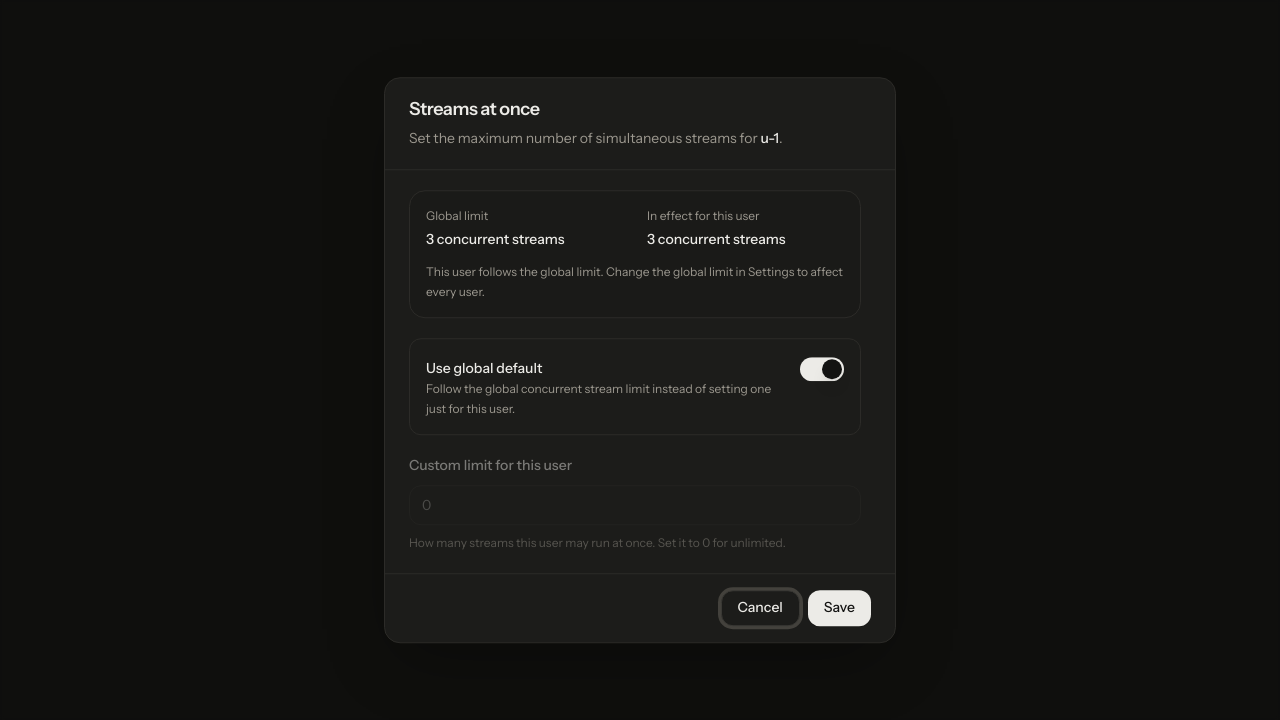
Scenario: ConcurrentStreamModal › validating the custom limit › blocks  with an inline message
Expected: the text "Use global default" is shown, [426, 360, 542, 378]
Step 1. Click the switch → click(822, 370), box [800, 358, 844, 382]
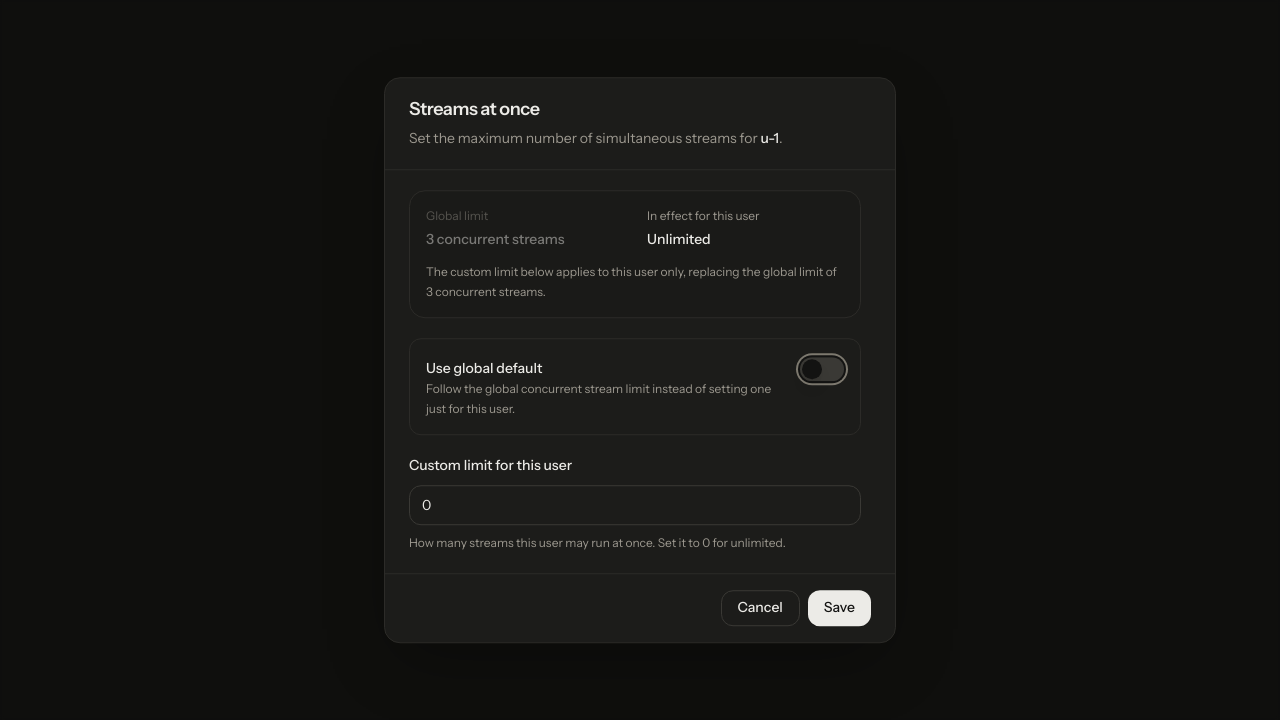
Step 2. Clear the number field labelled "Custom limit for this user" → (635, 505), box [409, 485, 861, 525]
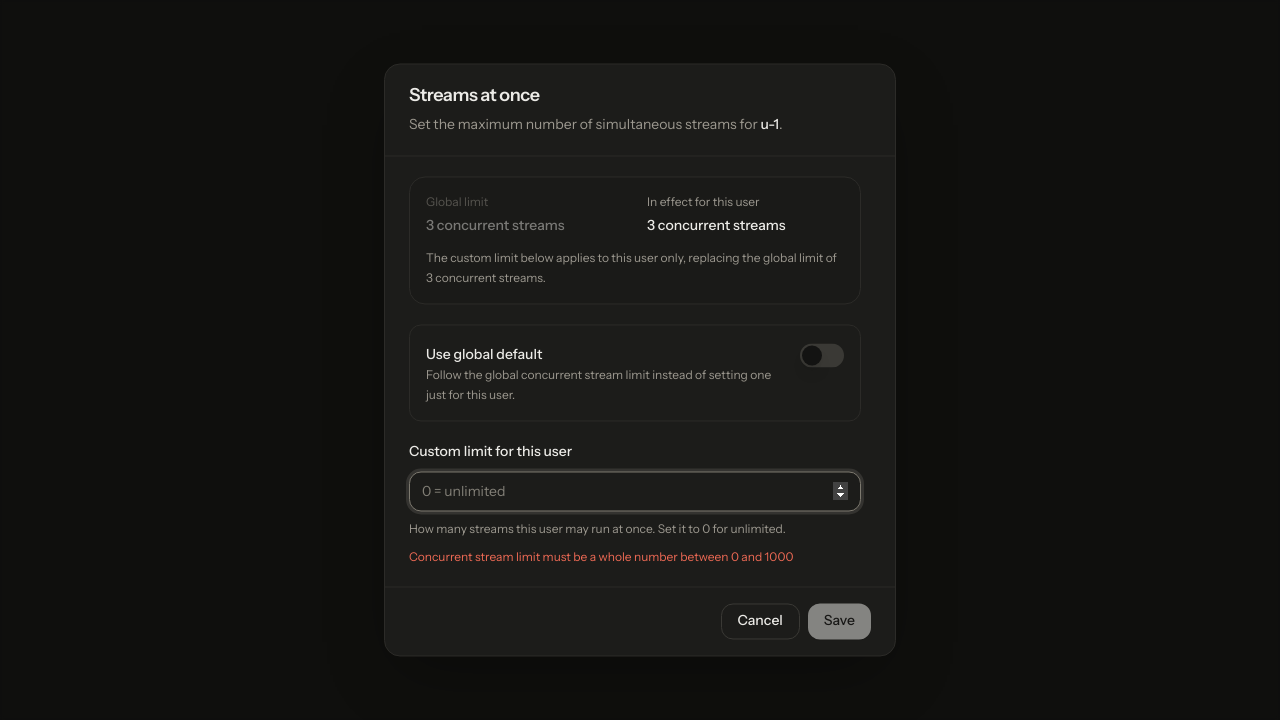
Now the message shows "Concurrent stream limit must be", box [409, 549, 794, 564]
Now the button "Save" is disabled, box [808, 604, 871, 640]
